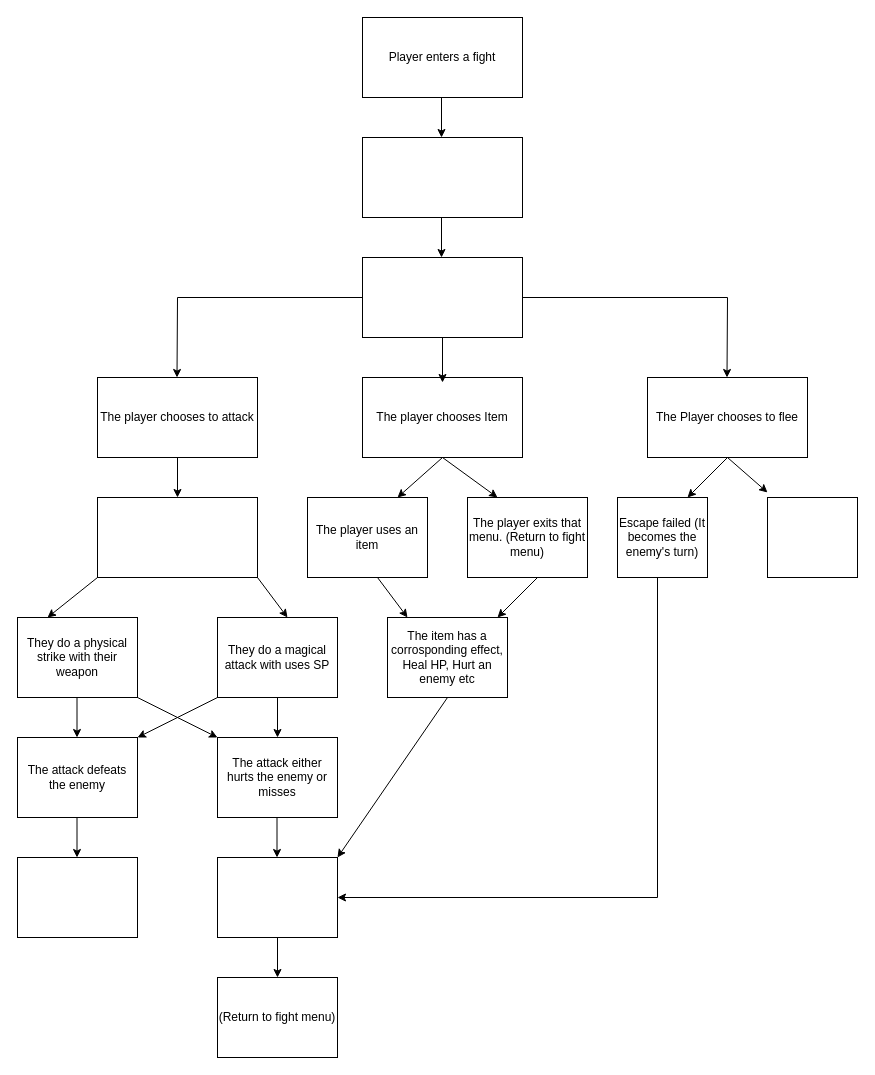
Image size: 875x1075. Some labels were removed from this diagram. The box of each missing label's shape, as (x1, y1, x2, y2) in pixels:
Battle ends: (16, 856, 138, 938)
Escape sucessful (Battle ends): (766, 496, 858, 578)
The enemy attacks which either hits or misses: (216, 856, 338, 938)
The fight menu pops up: (362, 136, 522, 218)
The Player is given the options of Attack, Magic, Item and Flee: (362, 256, 522, 338)
They can either use a physical or magical attack: (96, 496, 258, 578)
